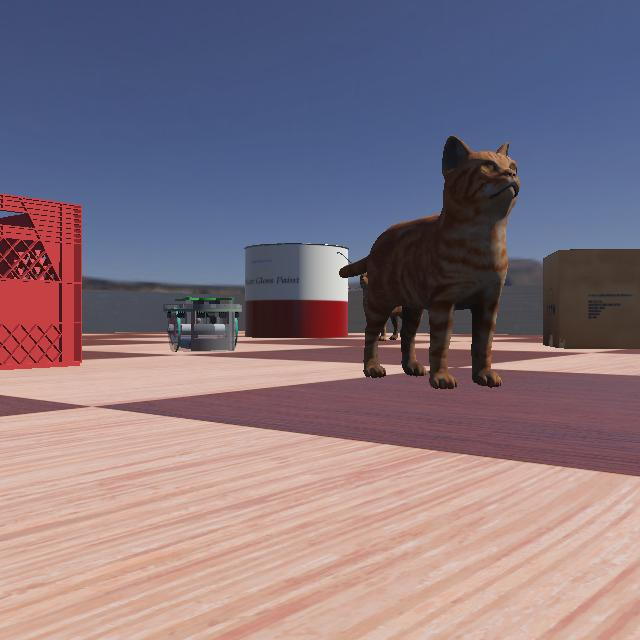cardboard-box: (529, 246, 639, 350), (529, 246, 639, 350)
cat: (336, 120, 542, 396), (336, 120, 542, 396), (336, 120, 542, 396), (336, 120, 542, 396), (352, 264, 440, 342), (352, 264, 440, 342), (352, 264, 440, 342), (352, 264, 440, 342), (352, 264, 440, 342)
paint-bucket: (237, 242, 377, 338), (237, 242, 377, 338), (237, 242, 377, 338)
plastic-crate: (0, 173, 110, 377)
